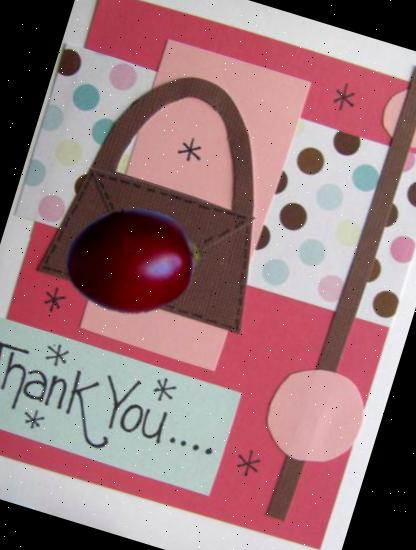Tamarillo: (48, 174, 222, 348)
